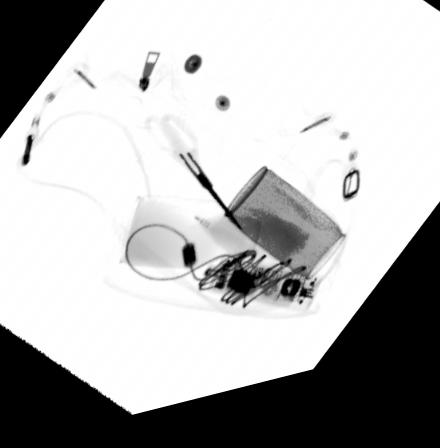Scissors: (142, 121, 242, 242)
